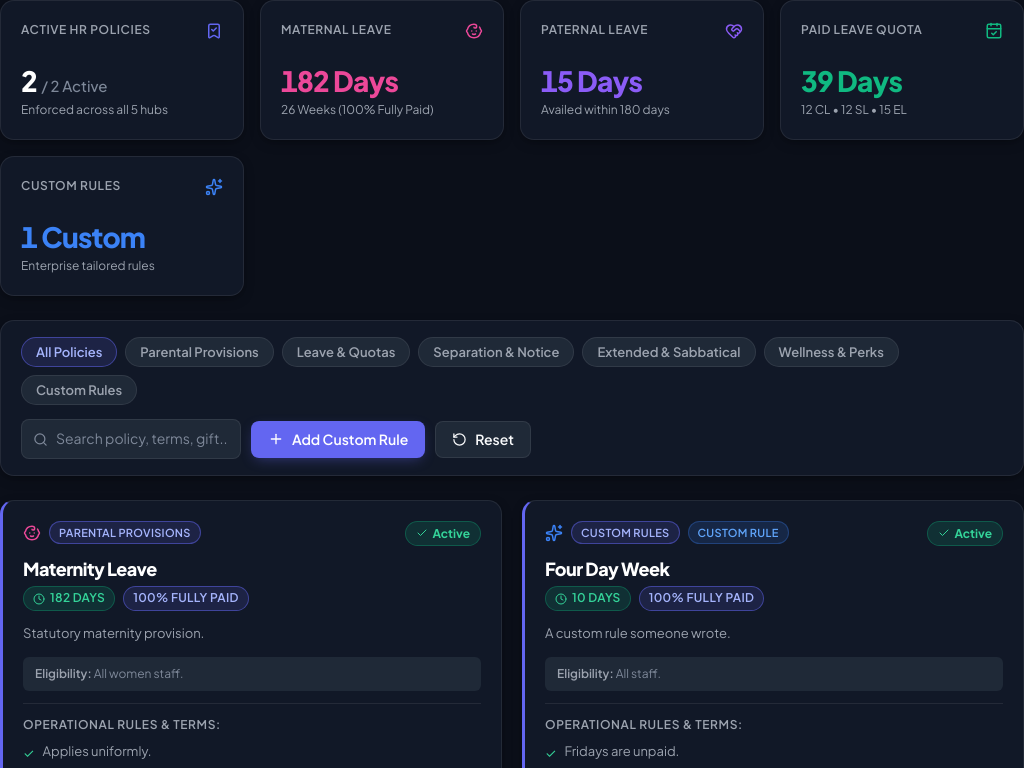
Test: PolicySection destructive actions › asks before resetting, and names what the reset destroys
The image size is (1024, 768).
Click the button "Reset" at [483, 439], box [435,421,531,458]
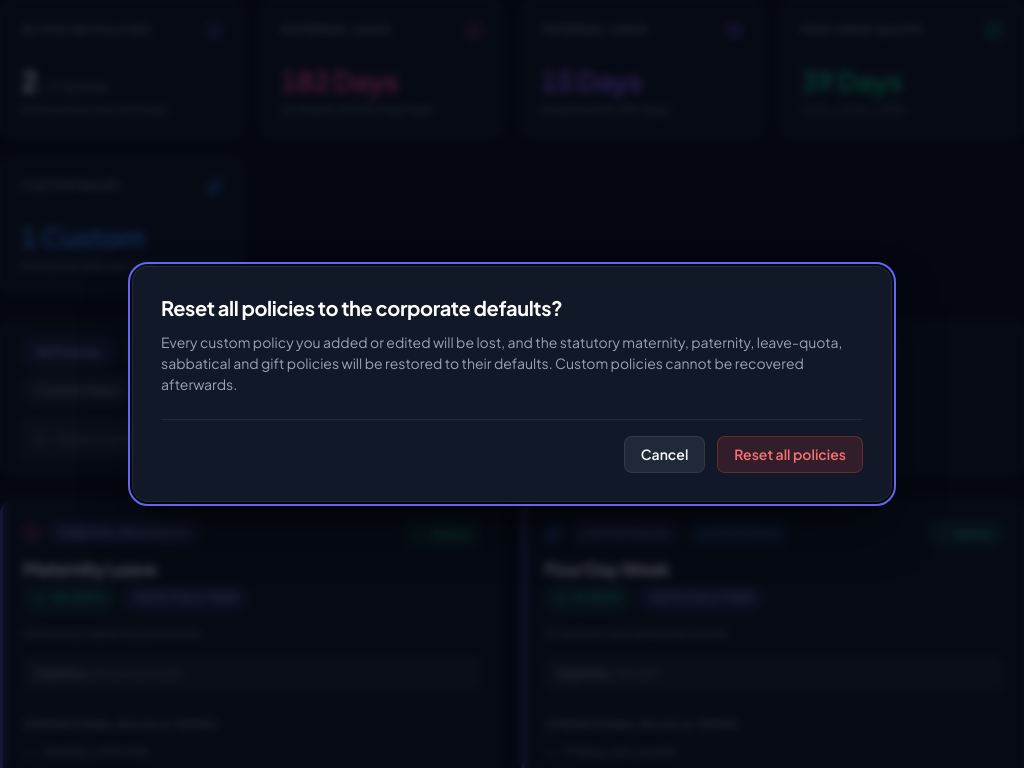
Expected: the dialog shows "custom policy you added or edited will be lost", [161,333,842,393]
Expected: the dialog shows "cannot be recovered", [161,333,842,393]
